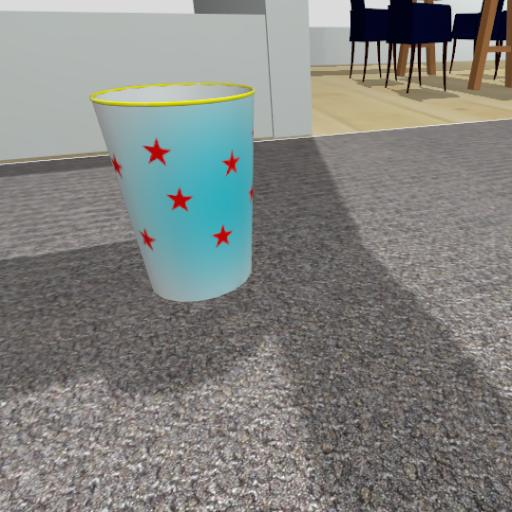Trash: (75, 53, 317, 344)
